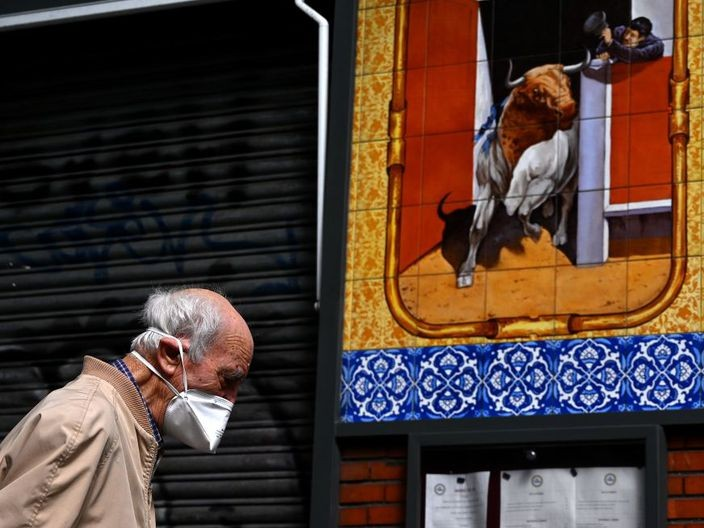with_mask: (139, 294, 256, 451)
